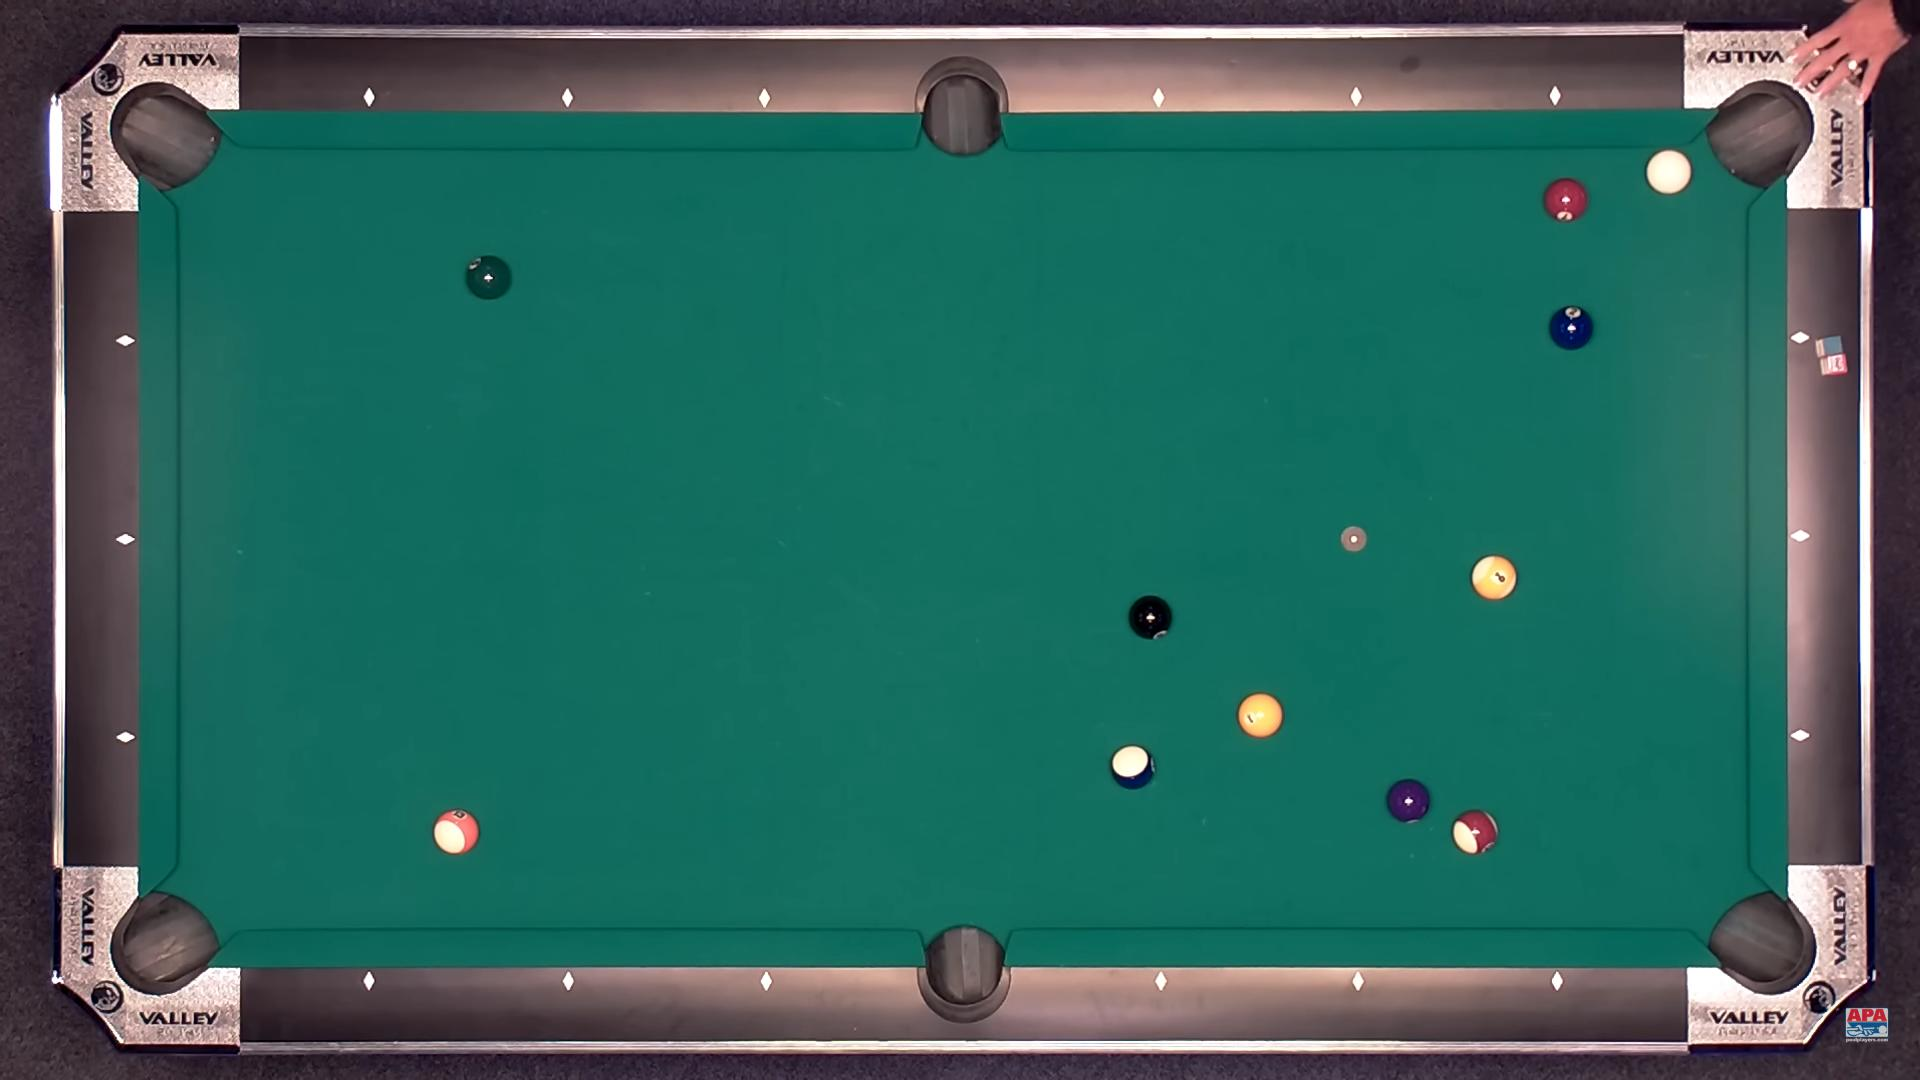Black: (1129, 596, 1172, 640)
Cue: (1644, 150, 1692, 195)
Dot: (559, 91, 574, 105), (1548, 88, 1563, 103), (760, 975, 774, 989), (363, 975, 377, 989), (119, 334, 133, 348), (363, 91, 377, 104), (1151, 91, 1164, 105), (1348, 90, 1361, 104), (1792, 331, 1807, 344), (1793, 529, 1807, 543), (1793, 728, 1808, 741), (1549, 975, 1564, 988), (1352, 975, 1365, 989), (1153, 976, 1167, 989), (560, 976, 575, 989), (758, 94, 771, 107), (117, 731, 131, 744), (117, 533, 131, 546)
Solid: (1238, 694, 1283, 738), (465, 255, 512, 298), (1544, 178, 1588, 222), (1549, 306, 1593, 349), (1387, 779, 1429, 823)
Striped: (1452, 808, 1499, 855), (435, 808, 481, 855), (1472, 554, 1516, 600), (1112, 745, 1154, 790)
